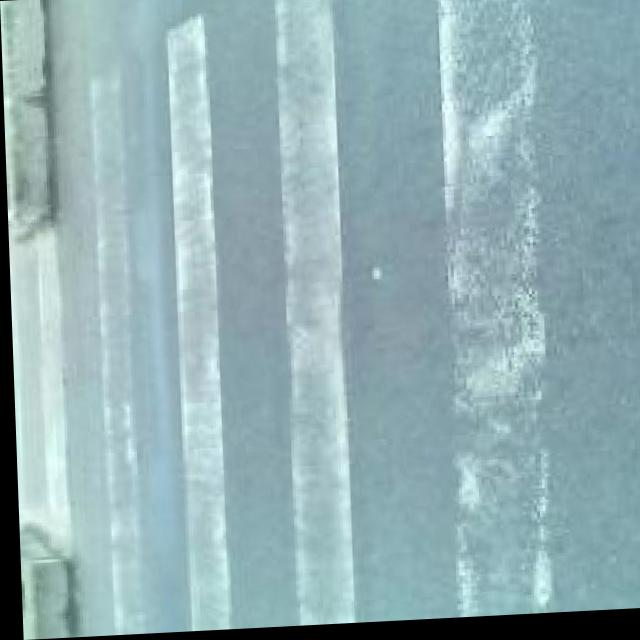zebra: (85, 61, 604, 618)
